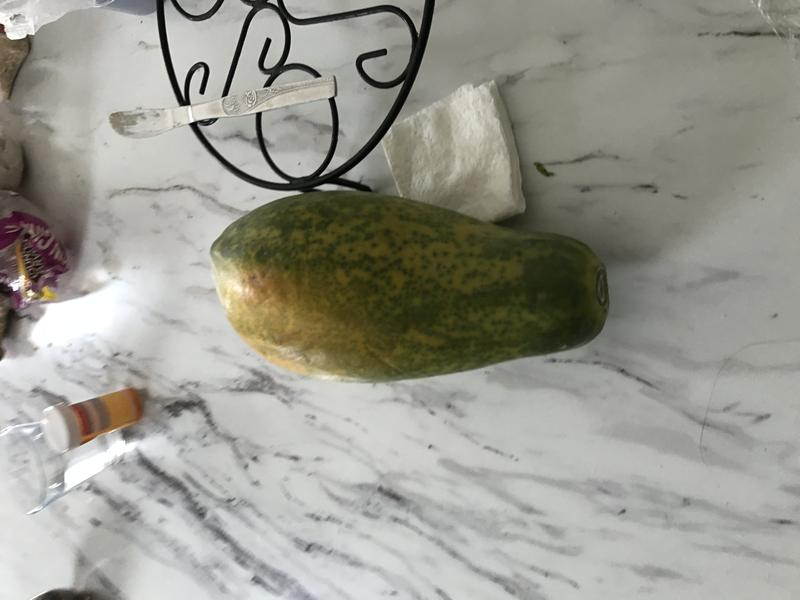papaya: (198, 184, 619, 392)
